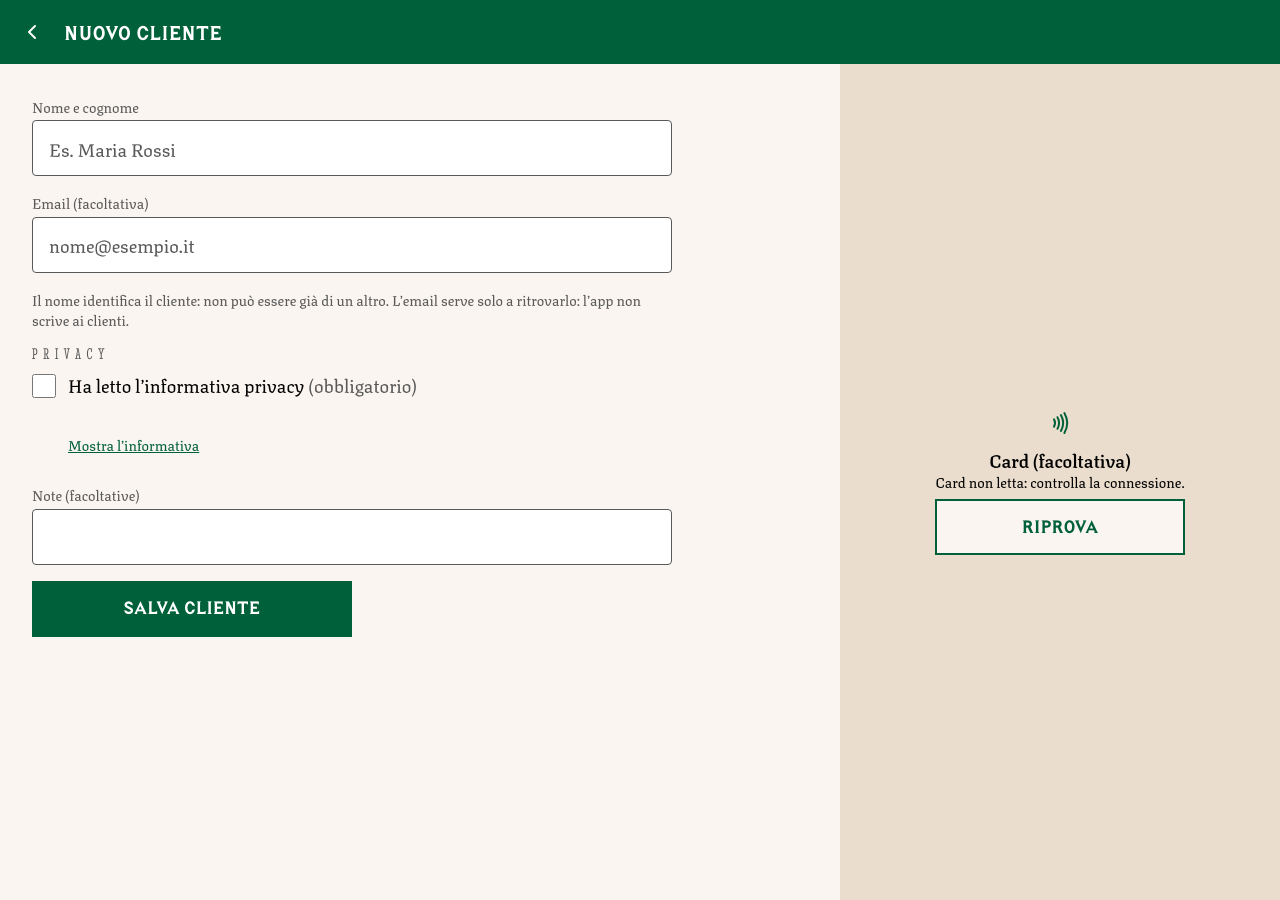
Test case: Nuovo cliente senza card: the section "Card (facoltativa)" › a lookup without answer: "Card non letta" and "Riprova" looks the same card up again
Later steps or results of the test are not shown.
Expected: the field labelled "Nome e cognome" is shown, [32,120,672,176]
Expected: the message shows "Card non letta: controlla la connessione.", [935,470,1185,492]
Click the button "Riprova": [1060, 527] box [935,499,1185,555]
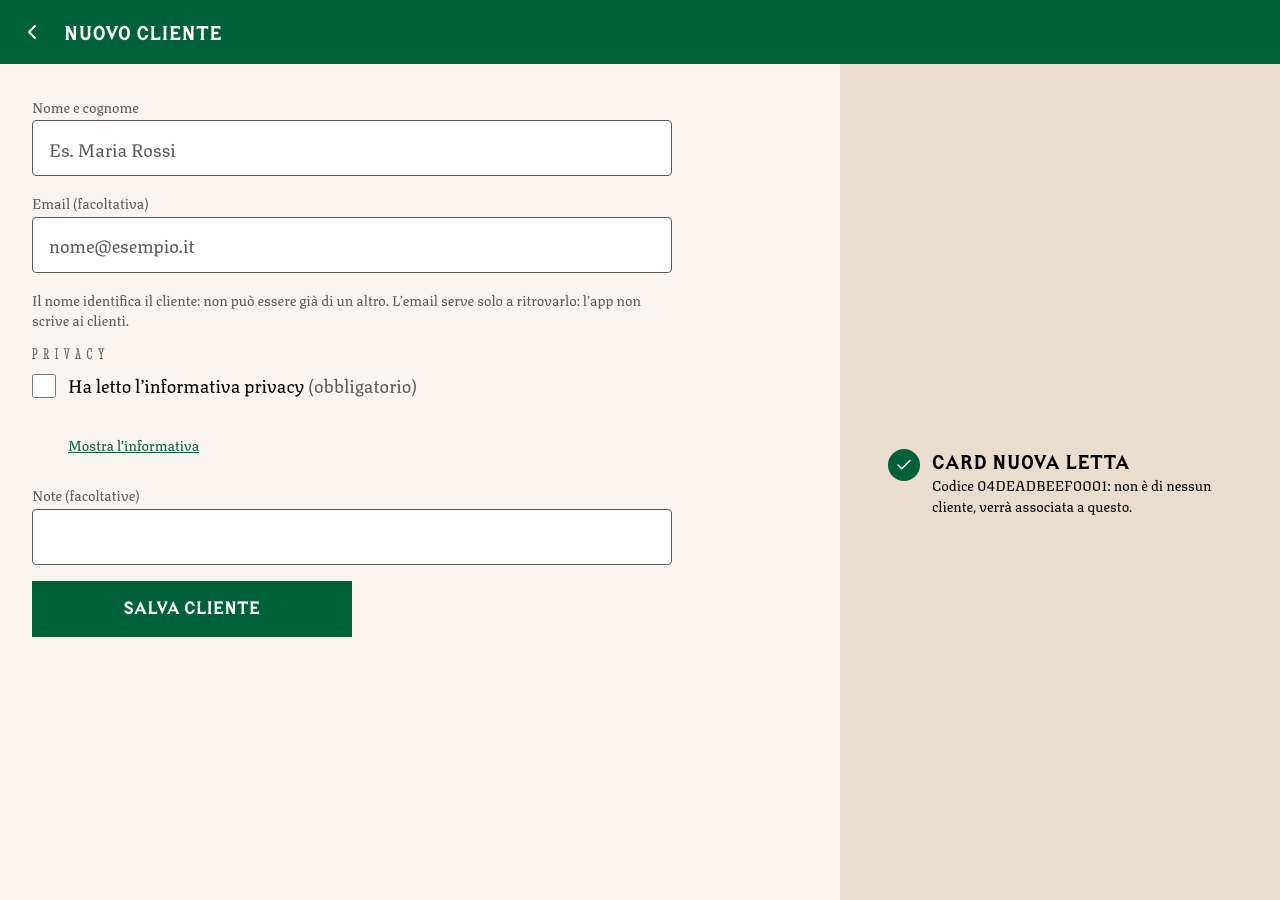
Now the element named "Card letta" is shown, box [872,433,1248,531]
